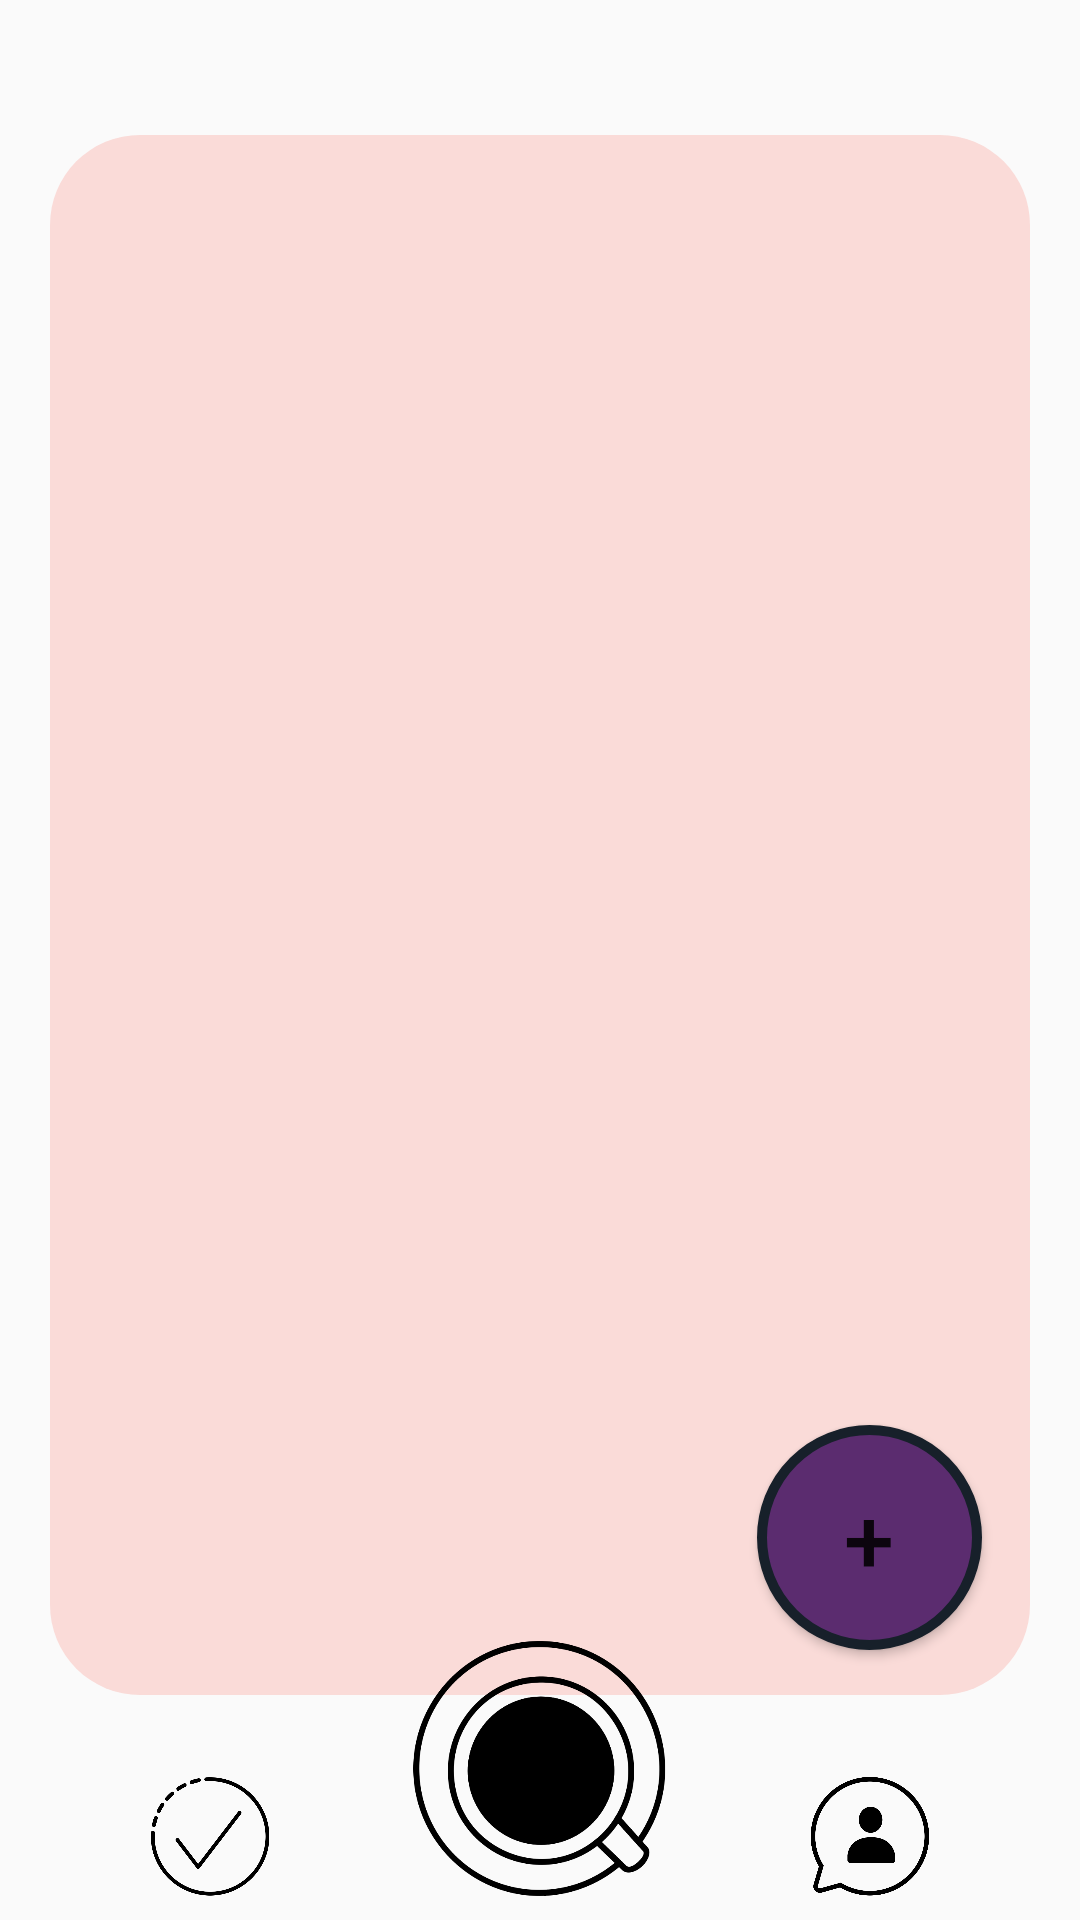

Screen size 1080px×1920px. Icon name, then its box in pixels as (x1, y1, x2, y2):
arkadaslar: (811, 1777, 929, 1896)
yapilan: (151, 1777, 269, 1896)
